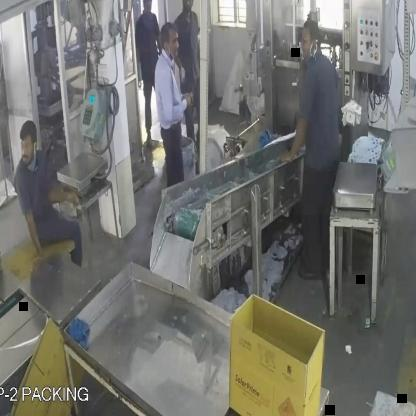no_glove: (155, 68, 194, 126), (276, 109, 313, 170), (21, 191, 45, 261), (47, 179, 86, 217)
